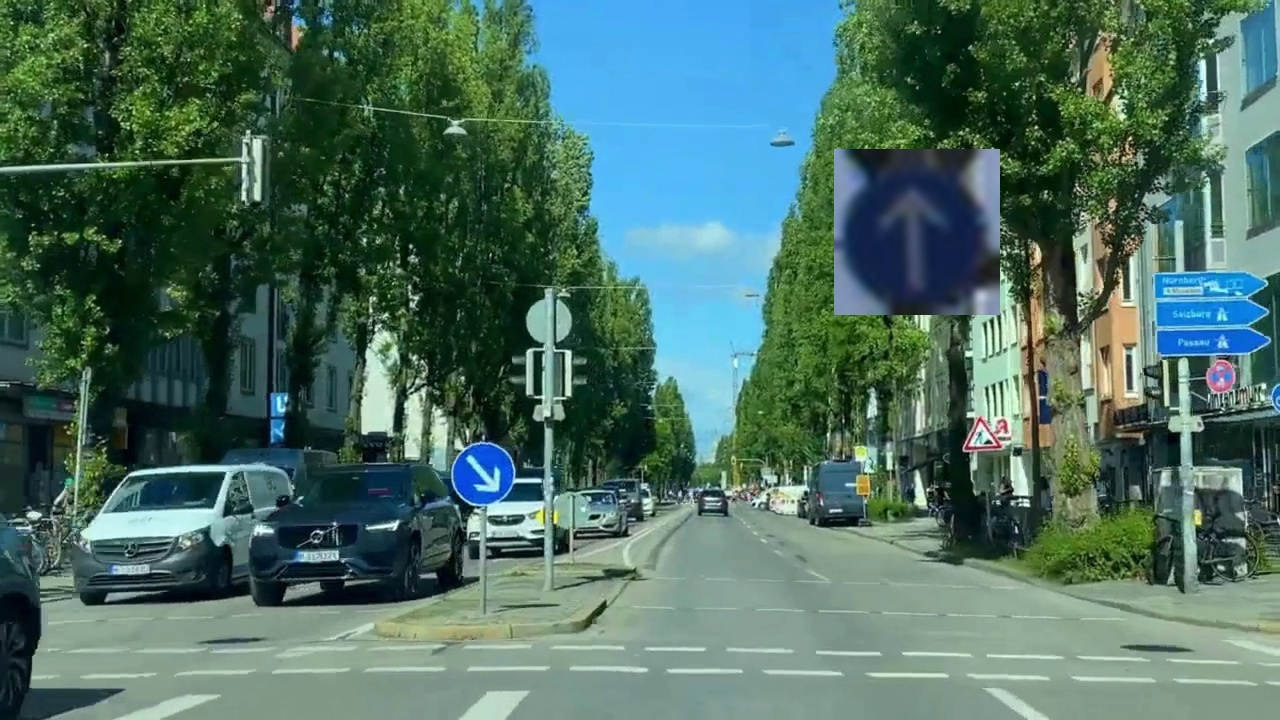Ahead only: (834, 149, 1000, 315)
